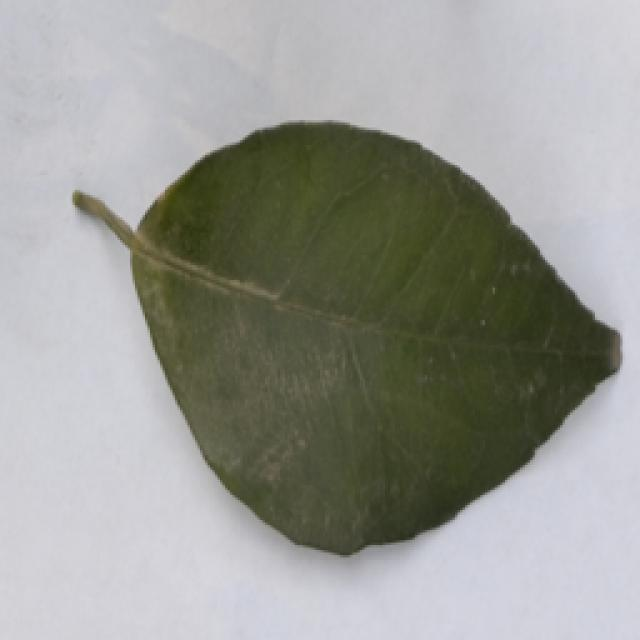healthy: (61, 112, 624, 559)
